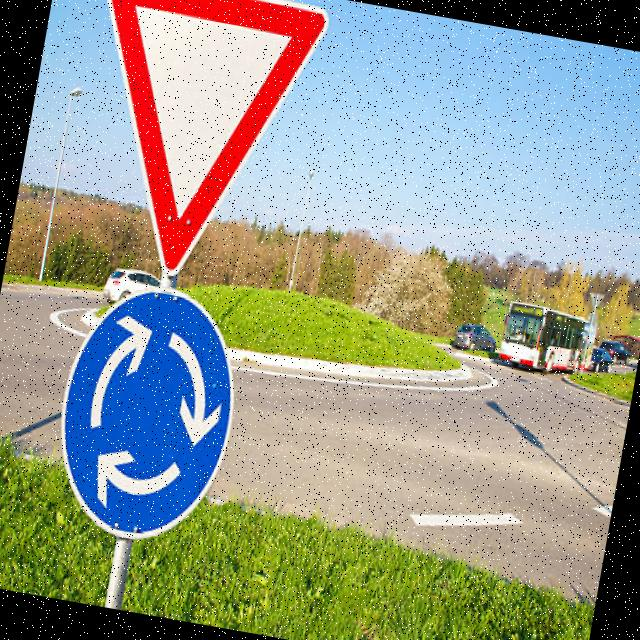round_about: (38, 266, 259, 558)
